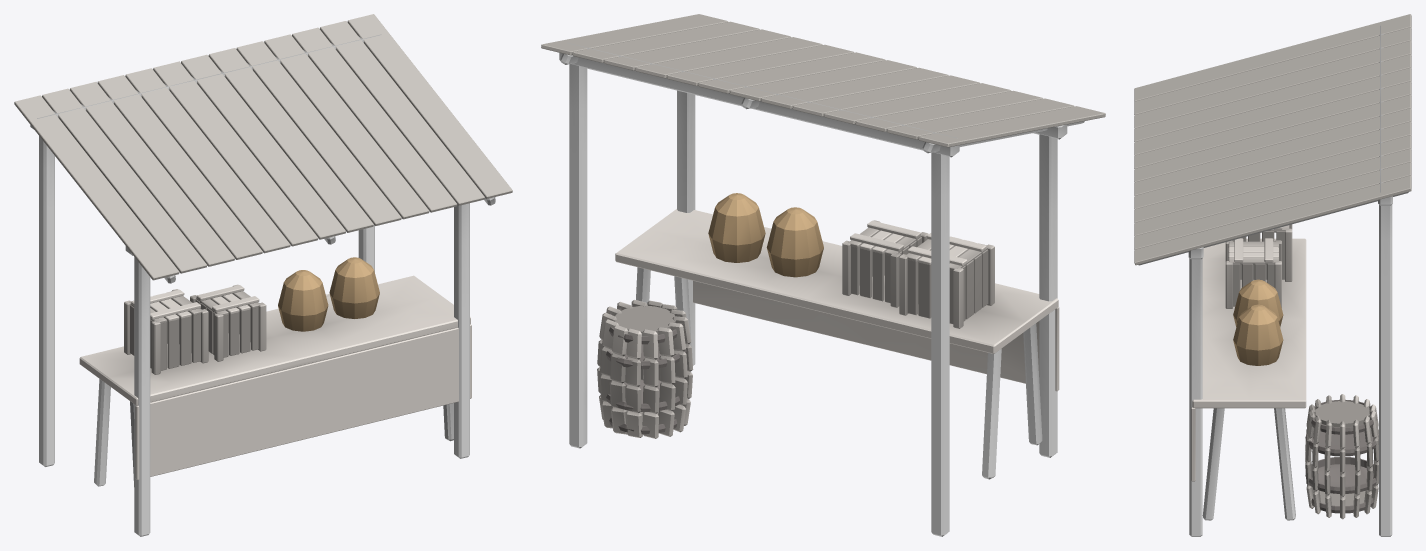
Rendered from market_stall.glb.
3 views of the same model, side by side, from view 1: azimuth 30°, elevation 25°; view 2: azimuth 150°, elevation 25°; view 3: azimuth 270°, elevation 25° (orthographic). The views are drawn at different scales.
Parts seen in each view (by area): view 1: board; view 2: board; view 3: board.
Boxes of the visible parts, <box> form: board: <box>14,14,512,536</box>; board: <box>541,14,1105,536</box>; board: <box>1134,14,1411,536</box>.
Size of the model in its own units: 2.79 by 2.66 by 1.88.
